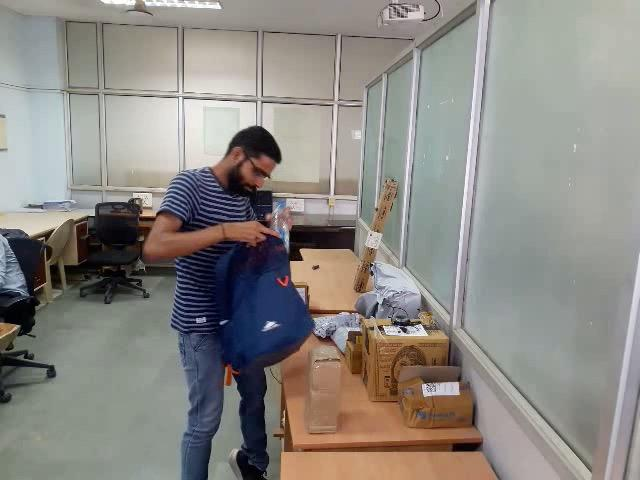shoplifting: (210, 188, 326, 378)
